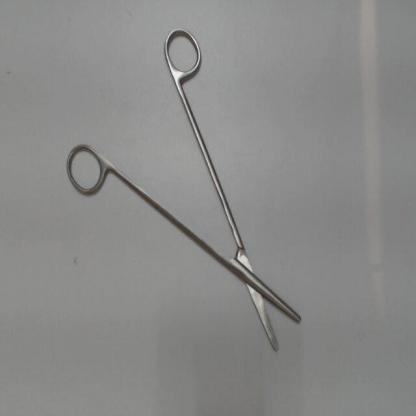9 Metzenbaum Scissors: (62, 21, 304, 358)
